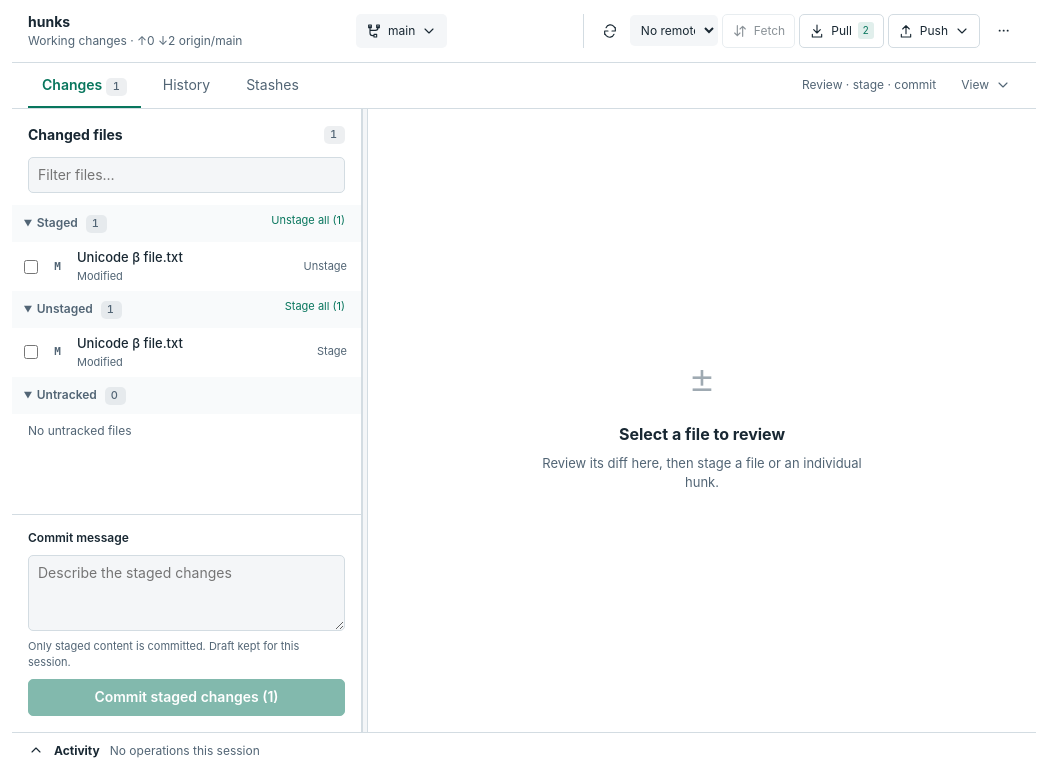
working hunk actions (mocked IPC) › rejects an eligible delayed plan after refresh changes the inspected snapshot
Click the button "M Unicode β file.txt Modified" below "Unstaged".
click(176, 352)  # box [42, 328, 309, 377]
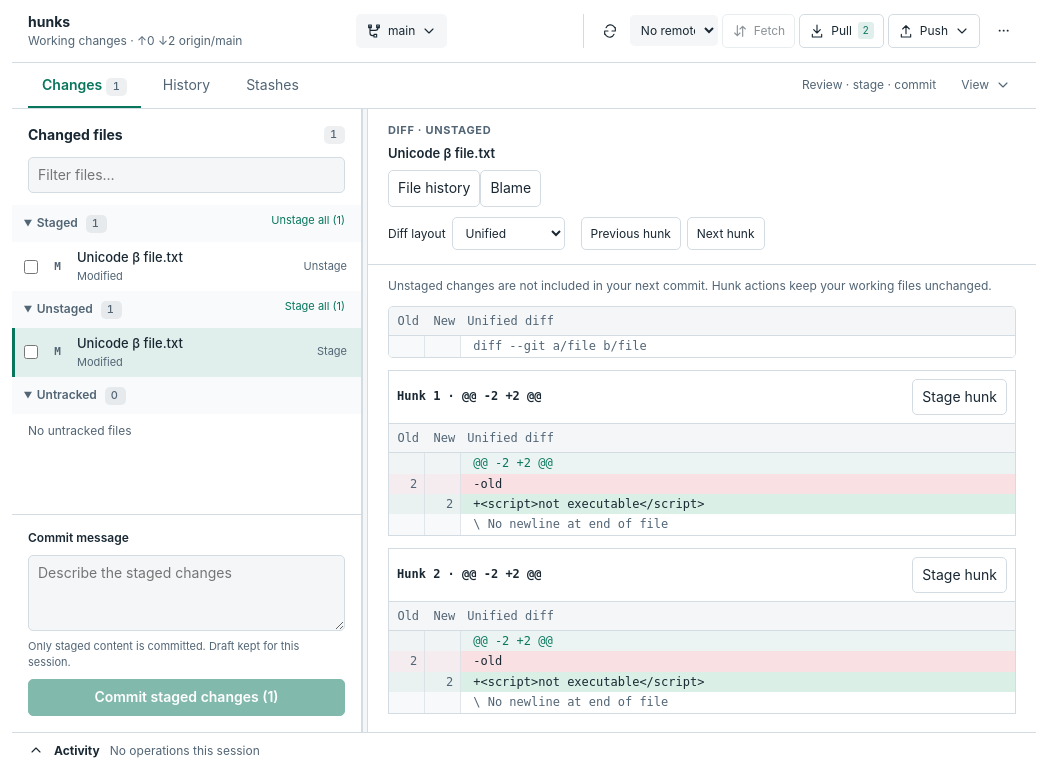
Expected: the element labelled "Hunk 2" is shown, [388, 548, 1016, 714]
Click the 1st button "Stage hunk".
click(960, 397)  # box [912, 379, 1007, 415]
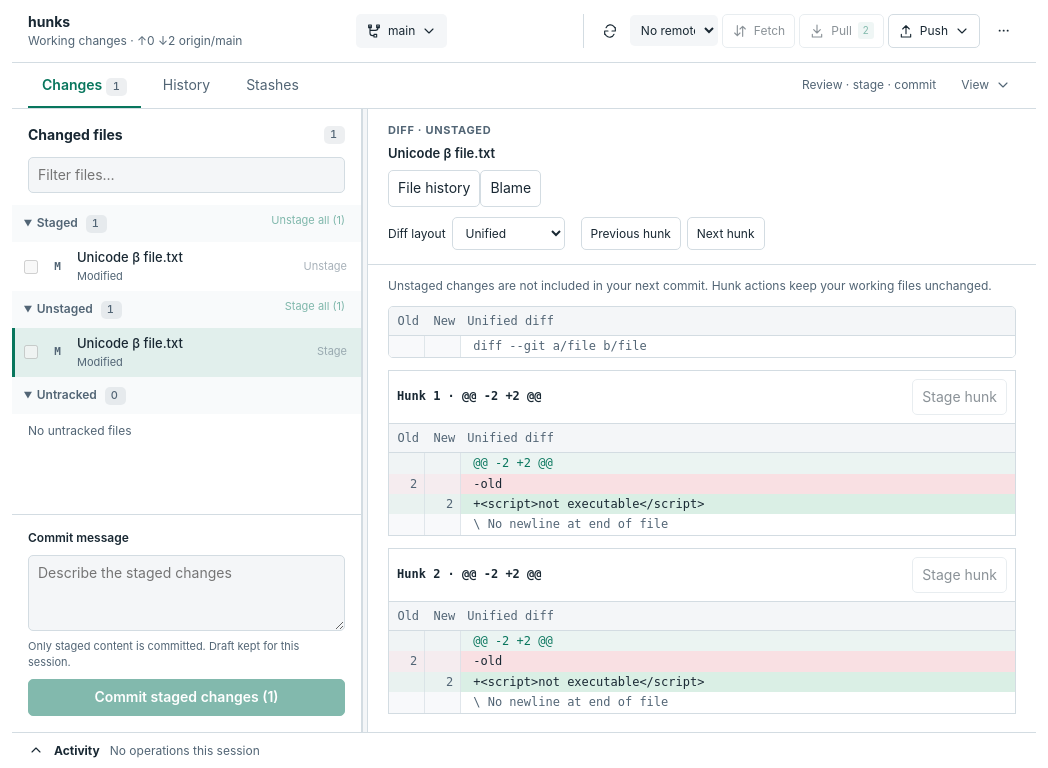
Click the button named "Refresh".
click(610, 31)  # box [594, 15, 626, 47]
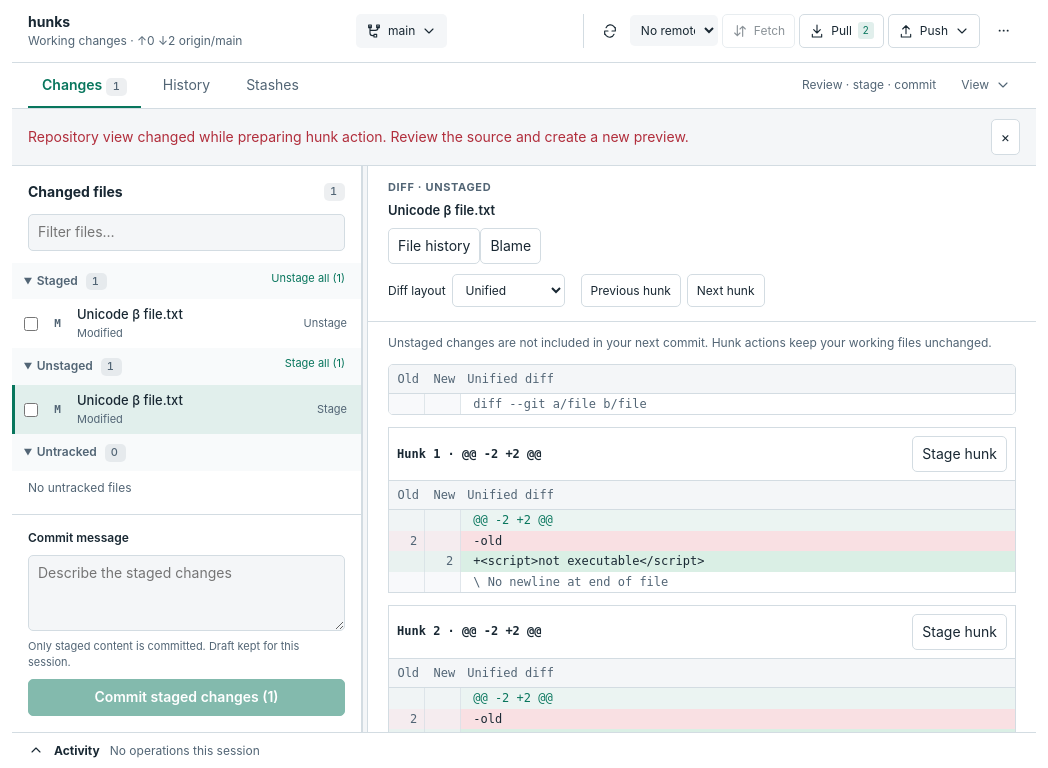
Expected: the text "Repository view changed while preparing hunk action" is shown, [28, 128, 689, 145]
